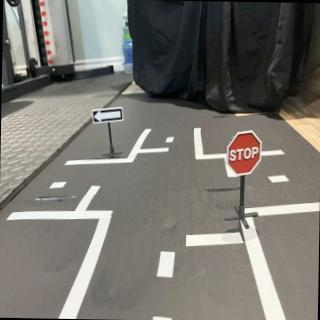sign_oneway_left: (92, 105, 126, 127)
sign_stop: (228, 132, 263, 175)
